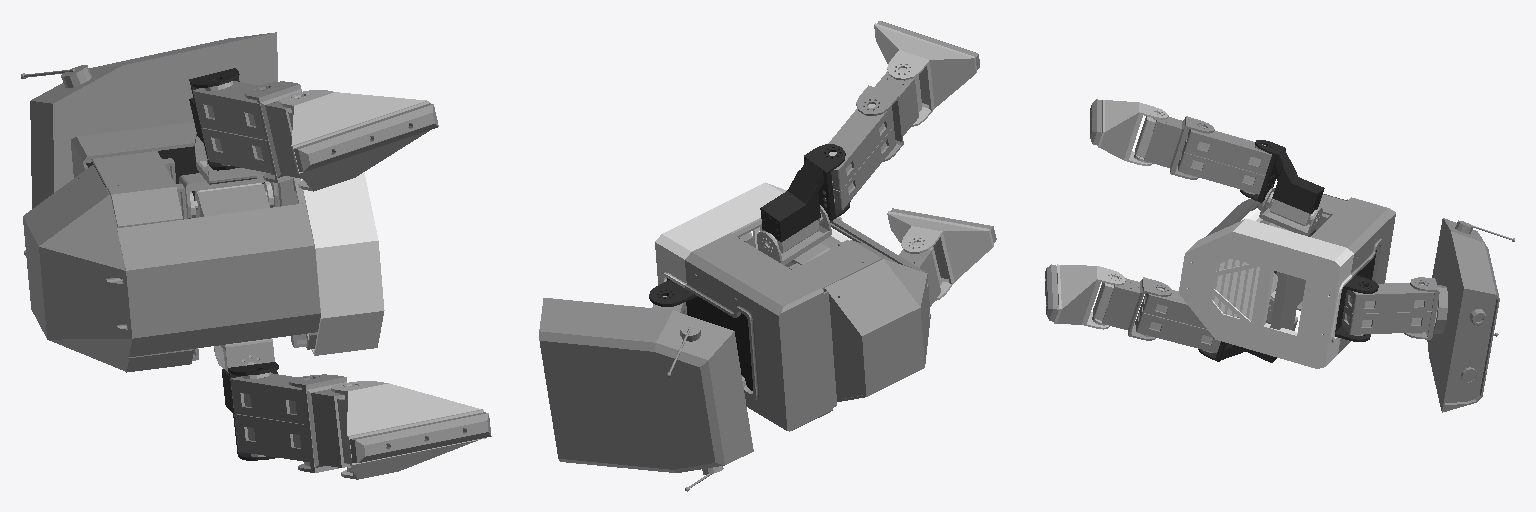
--- What the picture shows (computed from the rendered views, not written in the file) ---
The picture shows the robot from 3 angles, left to right: view 1: azimuth 30°, elevation 25°; view 2: azimuth 150°, elevation 25°; view 3: azimuth 270°, elevation 25°; orthographic projection.
Robot: droid — 16 links, 15 joints (15 revolute); root link bodyAssembly_1__Part_1_5; default pose: every joint at zero.
Visible links, largest first — view 1: bodyAssembly_1__Part_1_5, HeadNeckAssembly_1__Part_1_1, R_leg_Assembly_1__Composite_part_1_3, L_leg_Assembly_Copy_1_1__Composite_part_1_3, L_leg_Assembly_Copy_1_1__Part_1_6, L_leg_Assembly_Copy_1_1__Part_1_3, R_leg_Assembly_1__Part_1_6, R_leg_Assembly_1__Part_1_4, L_leg_Assembly_Copy_1_1__Part_1_4, R_leg_Assembly_1__Part_1_3, R_leg_Assembly_1__Composite_part_1_1, L_leg_Assembly_Copy_1_1__Composite_part_1_1 (+2 smaller); view 2: bodyAssembly_1__Part_1_5, HeadNeckAssembly_1__Part_1_1, R_leg_Assembly_1__Composite_part_1_3, R_leg_Assembly_1__Composite_part_1_2, L_leg_Assembly_Copy_1_1__Composite_part_1_3, R_leg_Assembly_1__Part_1_6, R_leg_Assembly_1__Part_1_4, R_leg_Assembly_1__Composite_part_1_1, R_leg_Assembly_1__Part_1_3, L_leg_Assembly_Copy_1_1__Part_1_6; view 3: bodyAssembly_1__Part_1_5, HeadNeckAssembly_1__Part_1_1, HeadNeckAssembly_1__Part_1_7, L_leg_Assembly_Copy_1_1__Composite_part_1_3, R_leg_Assembly_1__Composite_part_1_2, R_leg_Assembly_1__Composite_part_1_3, R_leg_Assembly_1__Part_1_6, L_leg_Assembly_Copy_1_1__Part_1_6, R_leg_Assembly_1__Part_1_4, R_leg_Assembly_1__Part_1_3, L_leg_Assembly_Copy_1_1__Part_1_4, L_leg_Assembly_Copy_1_1__Part_1_3 (+3 smaller).
Boxes of the visible links, bbox=[...] form: bodyAssembly_1__Part_1_5: bbox=[23, 122, 384, 372]; HeadNeckAssembly_1__Part_1_1: bbox=[21, 32, 277, 255]; R_leg_Assembly_1__Composite_part_1_3: bbox=[279, 90, 438, 191]; L_leg_Assembly_Copy_1_1__Composite_part_1_3: bbox=[331, 381, 491, 479]; L_leg_Assembly_Copy_1_1__Part_1_6: bbox=[289, 374, 352, 472]; L_leg_Assembly_Copy_1_1__Part_1_3: bbox=[230, 372, 309, 465]; R_leg_Assembly_1__Part_1_6: bbox=[244, 81, 301, 182]; R_leg_Assembly_1__Part_1_4: bbox=[193, 81, 266, 139]; L_leg_Assembly_Copy_1_1__Part_1_4: bbox=[234, 414, 309, 461]; R_leg_Assembly_1__Part_1_3: bbox=[201, 81, 274, 174]; R_leg_Assembly_1__Composite_part_1_1: bbox=[179, 134, 277, 218]; L_leg_Assembly_Copy_1_1__Composite_part_1_1: bbox=[214, 338, 274, 368]; bodyAssembly_1__Part_1_5: bbox=[649, 182, 930, 431]; HeadNeckAssembly_1__Part_1_1: bbox=[539, 298, 753, 491]; R_leg_Assembly_1__Composite_part_1_3: bbox=[874, 21, 979, 126]; R_leg_Assembly_1__Composite_part_1_2: bbox=[760, 144, 850, 253]; L_leg_Assembly_Copy_1_1__Composite_part_1_3: bbox=[887, 208, 996, 300]; R_leg_Assembly_1__Part_1_6: bbox=[856, 68, 921, 161]; R_leg_Assembly_1__Part_1_4: bbox=[828, 107, 893, 190]; R_leg_Assembly_1__Composite_part_1_1: bbox=[757, 205, 831, 265]; R_leg_Assembly_1__Part_1_3: bbox=[825, 104, 895, 209]; L_leg_Assembly_Copy_1_1__Part_1_6: bbox=[898, 242, 941, 306]; bodyAssembly_1__Part_1_5: bbox=[1179, 194, 1395, 368]; HeadNeckAssembly_1__Part_1_1: bbox=[1427, 218, 1514, 412]; HeadNeckAssembly_1__Part_1_7: bbox=[1342, 283, 1434, 335]; L_leg_Assembly_Copy_1_1__Composite_part_1_3: bbox=[1045, 264, 1125, 329]; R_leg_Assembly_1__Composite_part_1_2: bbox=[1240, 140, 1324, 225]; R_leg_Assembly_1__Composite_part_1_3: bbox=[1090, 99, 1168, 165]; R_leg_Assembly_1__Part_1_6: bbox=[1134, 112, 1214, 179]; L_leg_Assembly_Copy_1_1__Part_1_6: bbox=[1092, 276, 1172, 340]; R_leg_Assembly_1__Part_1_4: bbox=[1184, 129, 1271, 175]; R_leg_Assembly_1__Part_1_3: bbox=[1178, 126, 1265, 194]; L_leg_Assembly_Copy_1_1__Part_1_4: bbox=[1135, 304, 1220, 352]; L_leg_Assembly_Copy_1_1__Part_1_3: bbox=[1142, 288, 1212, 352].
Size in the robot's own frame: 0.2704 by 0.4907 by 0.2842 metres.
Meshes: 46 distinct files referenced, 42 mesh visuals loaded (42 binary STL); not drawn: 4 (file found but could not be loaded).

The robot description file, URDF, robot "droid":
<?xml version="1.0" encoding="UTF-8"?><robot xmlns="http://www.ros.org" name="droid">
    <link name="HeadNeckAssembly_1__Part_1_7">
        <inertial>
            <origin rpy="0.14491872905424558 0.009281080644398828 -1.9456978500770583" xyz="0.03306102602081387 0.0 -0.025988992866618377"/>
            <mass value="0.041127334490139285"/>
            <inertia ixx="1.3693996052096294E-5" ixy="3.4730111124017578E-9" ixz="2.4194819633799673E-8" iyy="3.939607905119911E-5" iyz="-1.0759532176086937E-6" izz="3.3248415100496406E-5"/>
        </inertial>
        <visual>
            <origin rpy="1.7347234759768213E-15 1.1102230246251652E-16 3.141592653589793" xyz="0.033122698052227145 0.0 -0.048999999999999655"/>
            <geometry>
                <mesh filename="meshes/HeadNeckAssembly_1__Part_1_7.stl"/>
            </geometry>
            <material name="material">
                <color rgba="0.615686274509804 0.615686274509804 0.615686274509804 1.0"/>
            </material>
        </visual>
        <visual>
            <origin rpy="1.7347234759768213E-15 1.1102230246251652E-16 3.141592653589793" xyz="0.05559999999999951 2.7755575615628914E-17 -0.025999999999999857"/>
            <geometry>
                <mesh filename="meshes/HeadNeckAssembly_1__Part_1_4.stl"/>
            </geometry>
            <material name="material">
                <color rgba="0.7490196078431373 0.7490196078431373 0.7490196078431373 1.0"/>
            </material>
        </visual>
        <visual>
            <origin rpy="-3.1415926535897913 1.1102230246251652E-16 3.141592653589793" xyz="0.032999999999999724 0.0 -0.003000000000000058"/>
            <geometry>
                <mesh filename="meshes/HeadNeckAssembly_1__Part_1_5.stl"/>
            </geometry>
            <material name="material">
                <color rgba="0.615686274509804 0.615686274509804 0.615686274509804 1.0"/>
            </material>
        </visual>
        <visual>
            <origin rpy="0.0 -0.0 3.0357660829594124E-17" xyz="0.010399999999999993 0.0 -0.02600000000000008"/>
            <geometry>
                <mesh filename="meshes/HeadNeckAssembly_1__Part_1_6.stl"/>
            </geometry>
            <material name="material">
                <color rgba="0.7490196078431373 0.7490196078431373 0.7490196078431373 1.0"/>
            </material>
        </visual>
        <collision name="collision">
            <origin rpy="0.0 -0.0 0.0" xyz="0 0 0"/>
        </collision>
    </link>
    <link name="R_leg_Assembly_1__Part_1_6">
        <inertial>
            <origin rpy="-2.841479538896191 -0.08215675154349743 3.1089611559416785" xyz="-0.143667790477173 -0.10500851911398518 0.2583286463831161"/>
            <mass value="0.018230564161461273"/>
            <inertia ixx="5.208410756315261E-6" ixy="-4.2398317337648713E-10" ixz="2.2385095294789756E-9" iyy="9.95025512505355E-6" iyz="-4.2022089153689035E-8" izz="8.28375054165331E-6"/>
        </inertial>
        <visual>
            <origin rpy="-6.938893903907228E-17 5.551115123125773E-17 1.5707963267948992" xyz="-0.14244977733990943 -0.1206126977539852 0.2585692761793733"/>
            <geometry>
                <mesh filename="meshes/R_leg_Assembly_1__Part_1_7.stl"/>
            </geometry>
            <material name="material">
                <color rgba="0.7490196078431373 0.7490196078431373 0.7490196078431373 1.0"/>
            </material>
        </visual>
        <visual>
            <origin rpy="1.5707963267948966 1.5707963267948966 0.0" xyz="-0.14337477733990947 -0.10061269775398521 0.25831927617937334"/>
            <geometry>
                <mesh filename="meshes/R_leg_Assembly_1__Part_1_6.stl"/>
            </geometry>
            <material name="material">
                <color rgba="0.611764705882353 0.611764705882353 0.611764705882353 1.0"/>
            </material>
        </visual>
        <collision name="collision">
            <origin rpy="0.0 -0.0 0.0" xyz="0 0 0"/>
        </collision>
    </link>
    <link name="L_leg_Assembly_Copy_1_1__Part_1_4">
        <inertial>
            <origin rpy="0.2973168944103398 -0.04429570838046923 1.534259899309768" xyz="-0.029003465022146707 -0.0771744622765647 0.13679553334324396"/>
            <mass value="0.020455398639671444"/>
            <inertia ixx="2.915086716720565E-6" ixy="1.0" ixz="1.0" iyy="1.5873003355695037E-5" iyz="1.1856597788008021E-8" izz="1.6583316052442535E-5"/>
        </inertial>
        <visual>
            <origin rpy="0.0 5.551115123125783E-17 1.734723475976807E-18" xyz="-0.029003465022146707 -0.07710678510772048 0.1276651275301544"/>
            <geometry>
                <mesh filename="meshes/L_leg_Assembly_Copy_1_1__Part_1_4.stl"/>
            </geometry>
            <material name="material">
                <color rgba="0.615686274509804 0.615686274509804 0.615686274509804 1.0"/>
            </material>
        </visual>
        <collision name="collision">
            <origin rpy="0.0 -0.0 0.0" xyz="0 0 0"/>
        </collision>
    </link>
    <link name="L_leg_Assembly_Copy_1_1__Composite_part_1_1">
        <inertial>
            <origin rpy="-1.401406675437184 -1.208244960801741 0.13528643878441013" xyz="0.0 -0.016999999999999904 0.026500000000000013"/>
            <mass value="0.0171670294792114"/>
            <inertia ixx="6.44420964908871E-6" ixy="1.0" ixz="1.0" iyy="6.4442096490887096E-6" iyz="1.0" izz="9.382418566263971E-6"/>
        </inertial>
        <visual>
            <origin rpy="1.5707963267948968 1.5707963267948966 0.0" xyz="-1.1102230246251565E-16 0.020000000000000073 -6.938893903907228E-18"/>
            <geometry>
                <mesh filename="meshes/L_leg_Assembly_Copy_1_1__Composite_part_1_1.stl"/>
            </geometry>
            <material name="material">
                <color rgba="0.6470588235294118 0.6470588235294118 0.6470588235294118 1.0"/>
            </material>
        </visual>
        <collision name="collision">
            <origin rpy="0.0 -0.0 0.0" xyz="0 0 0"/>
        </collision>
    </link>
    <link name="HeadNeckAssembly_1__Part_1_1">
        <inertial>
            <origin rpy="-1.4247112083755553 -0.12501486630665473 -1.5013842875892451" xyz="0.07509227142560188 -0.00810119274595214 0.04095765905544663"/>
            <mass value="0.21210055385365936"/>
            <inertia ixx="6.563030498747351E-4" ixy="-2.432947509455314E-6" ixz="-1.7765536808171356E-8" iyy="5.078596775284351E-4" iyz="-1.3350503065396255E-6" izz="0.0010438168468389012"/>
        </inertial>
        <visual>
            <origin rpy="3.141592653589793 2.7755575615628914E-17 -1.3877787807814457E-17" xyz="0.07495083422663912 -0.03385703496944786 0.059824881255626794"/>
            <geometry>
                <mesh filename="meshes/HeadNeckAssembly_1__Part_1_1.stl"/>
            </geometry>
            <material name="material">
                <color rgba="0.615686274509804 0.615686274509804 0.615686274509804 1.0"/>
            </material>
        </visual>
        <collision name="collision">
            <origin rpy="0.0 -0.0 0.0" xyz="0 0 0"/>
        </collision>
    </link>
    <link name="L_leg_Assembly_Copy_1_1__Part_1_6">
        <inertial>
            <origin rpy="0.2973168944103402 -0.04429570838046979 -0.03604870478308422" xyz="-0.07739979824498402 -0.15456094889015443 0.08801283522588943"/>
            <mass value="0.018230564161461273"/>
            <inertia ixx="5.208410756315261E-6" ixy="-4.2398317337648713E-10" ixz="2.2385095294789756E-9" iyy="9.95025512505355E-6" iyz="-4.2022089153689035E-8" izz="8.28375054165331E-6"/>
        </inertial>
        <visual>
            <origin rpy="2.220446049250313E-16 -2.7755575615629E-16 1.5707963267948912" xyz="-0.07618178510772056 -0.17016512753015442 0.08825346502214665"/>
            <geometry>
                <mesh filename="meshes/L_leg_Assembly_Copy_1_1__Part_1_7.stl"/>
            </geometry>
            <material name="material">
                <color rgba="0.7490196078431373 0.7490196078431373 0.7490196078431373 1.0"/>
            </material>
        </visual>
        <visual>
            <origin rpy="1.5707963267948968 1.5707963267948966 0.0" xyz="-0.07710678510772047 -0.15016512753015446 0.08800346502214668"/>
            <geometry>
                <mesh filename="meshes/L_leg_Assembly_Copy_1_1__Part_1_6.stl"/>
            </geometry>
            <material name="material">
                <color rgba="0.611764705882353 0.611764705882353 0.611764705882353 1.0"/>
            </material>
        </visual>
        <collision name="collision">
            <origin rpy="0.0 -0.0 0.0" xyz="0 0 0"/>
        </collision>
    </link>
    <link name="L_leg_Assembly_Copy_1_1__Part_1_3">
        <inertial>
            <origin rpy="-2.844275759179454 0.0442957083804698 -1.5400545984200504" xyz="-0.029126163074374184 -0.07717375336253354 0.0904189174908247"/>
            <mass value="0.02067193585046784"/>
            <inertia ixx="2.9375997572303526E-6" ixy="1.0" ixz="1.0" iyy="1.583999636315764E-5" iyz="1.5035987309264036E-8" izz="1.6506716416713372E-5"/>
        </inertial>
        <visual>
            <origin rpy="6.938893903907228E-18 -0.0 0.0" xyz="-0.05160346502214669 -0.0771067851077205 0.10416512753015444"/>
            <geometry>
                <mesh filename="meshes/L_leg_Assembly_Copy_1_1__Part_1_2.stl"/>
            </geometry>
            <material name="material">
                <color rgba="0.7490196078431373 0.7490196078431373 0.7490196078431373 1.0"/>
            </material>
        </visual>
        <visual>
            <origin rpy="6.938893903907228E-18 -0.0 0.0" xyz="-0.029126163074374184 -0.0771067851077205 0.08116512753015448"/>
            <geometry>
                <mesh filename="meshes/L_leg_Assembly_Copy_1_1__Part_1_3.stl"/>
            </geometry>
            <material name="material">
                <color rgba="0.615686274509804 0.615686274509804 0.615686274509804 1.0"/>
            </material>
        </visual>
        <visual>
            <origin rpy="3.141592653589793 -0.0 3.141592653589793" xyz="-0.006526163074374175 -0.07710678510772048 0.10416512753015444"/>
            <geometry>
                <mesh filename="meshes/L_leg_Assembly_Copy_1_1__Part_1_5.stl"/>
            </geometry>
            <material name="material">
                <color rgba="0.7490196078431373 0.7490196078431373 0.7490196078431373 1.0"/>
            </material>
        </visual>
        <collision name="collision">
            <origin rpy="0.0 -0.0 0.0" xyz="0 0 0"/>
        </collision>
    </link>
    <link name="bodyAssembly_1__Part_1_5">
        <inertial>
            <origin rpy="0.0 -0.0 0.0" xyz="0.06093237761995625 0.21092170843523267 -0.29121855341974506"/>
            <mass value="0.6905911276758767"/>
            <inertia ixx="0.003531682144537188" ixy="2.1275142426849796E-5" ixz="-5.9149120762144275E-5" iyy="0.003390222875397111" iyz="1.2610602354506609E-4" izz="0.004759291130126272"/>
        </inertial>
        <visual>
            <origin rpy="2.7156468994744962 -1.4255827853164351 1.6349779651516658" xyz="0.06784458427800111 0.26173253234141836 -0.2987318103936719"/>
            <geometry>
                <mesh filename="meshes/bodyAssembly_1__Part_1_9.stl"/>
            </geometry>
            <material name="material">
                <color rgba="0.615686274509804 0.615686274509804 0.615686274509804 1.0"/>
            </material>
        </visual>
        <visual>
            <origin rpy="2.7156468994744944 -1.4255827853164358 1.634977965151666" xyz="0.0579791004855284 0.17726166804149135 -0.2864334225267241"/>
            <geometry>
                <mesh filename="meshes/bodyAssembly_1__Part_1_1.stl"/>
            </geometry>
            <material name="material">
                <color rgba="0.615686274509804 0.615686274509804 0.615686274509804 1.0"/>
            </material>
        </visual>
        <visual>
            <origin rpy="2.7156468994744993 -1.425582785316436 1.6349779651516614" xyz="0.07693412721267107 0.22683791555684468 -0.29298556024672595"/>
            <geometry>
                <mesh filename="meshes/bodyAssembly_1__Part_1_6.stl"/>
            </geometry>
            <material name="material">
                <color rgba="0.615686274509804 0.615686274509804 0.615686274509804 1.0"/>
            </material>
        </visual>
        <visual>
            <origin rpy="2.7156468994744936 -1.4255827853164358 1.6349779651516685" xyz="0.007951349141101405 0.2545333963860842 -0.24815331549892608"/>
            <geometry>
                <mesh filename="meshes/bodyAssembly_1__Part_1_2.stl"/>
            </geometry>
            <material name="material">
                <color rgba="0.615686274509804 0.615686274509804 0.615686274509804 1.0"/>
            </material>
        </visual>
        <visual>
            <origin rpy="2.715646899474497 -1.4255827853164358 1.634977965151668" xyz="0.09609209075583225 0.27677539636495085 -0.3005991504579143"/>
            <geometry>
                <mesh filename="meshes/bodyAssembly_1__Composite_part_1_2.stl"/>
            </geometry>
            <material name="material">
                <color rgba="0.23137254901960785 0.23137254901960785 0.23137254901960785 1.0"/>
            </material>
        </visual>
        <visual>
            <origin rpy="-1.7031931585020135 -0.05982468551974241 -0.35779684310301263" xyz="-0.013798223013985117 0.20409745312987027 -0.291030391058805"/>
            <geometry>
                <mesh filename="meshes/bodyAssembly_1__myPy_1.stl"/>
            </geometry>
            <material name="material">
                <color rgba="0.34509803921568627 0.34509803921568627 0.34509803921568627 1.0"/>
            </material>
        </visual>
        <visual>
            <origin rpy="2.7156468994745 -1.4255827853164356 1.6349779651516683" xyz="0.13604566387535366 0.20664025999340868 -0.23996222160157796"/>
            <geometry>
                <mesh filename="meshes/bodyAssembly_1__Part_1_4.stl"/>
            </geometry>
            <material name="material">
                <color rgba="0.615686274509804 0.615686274509804 0.615686274509804 1.0"/>
            </material>
        </visual>
        <visual>
            <origin rpy="-2.715646899474506 1.4255827853164358 -1.5066146884381264" xyz="0.0755032601334838 0.22259597937574083 -0.2954118161724061"/>
            <geometry>
                <mesh filename="meshes/bodyAssembly_1__Part_1_7.stl"/>
            </geometry>
            <material name="material">
                <color rgba="0.615686274509804 0.615686274509804 0.615686274509804 1.0"/>
            </material>
        </visual>
        <visual>
            <origin rpy="2.663939773362938 -1.4218647413633252 1.6872490515471974" xyz="0.04658417164096498 0.1482581063111208 -0.2811268379304672"/>
            <geometry>
                <mesh filename="meshes/bodyAssembly_1__Part_1_10.stl"/>
            </geometry>
            <material name="material">
                <color rgba="0.615686274509804 0.615686274509804 0.615686274509804 1.0"/>
            </material>
        </visual>
        <visual>
            <origin rpy="-2.7156468994744944 1.4255827853164358 -1.5066146884381255" xyz="0.008870162933896836 0.2402372230292375 -0.34611134328922666"/>
            <geometry>
                <mesh filename="meshes/bodyAssembly_1__Part_1_3.stl"/>
            </geometry>
            <material name="material">
                <color rgba="0.615686274509804 0.615686274509804 0.615686274509804 1.0"/>
            </material>
        </visual>
        <visual>
            <origin rpy="1.631978511779687 0.21091886830959927 -1.915768856467954" xyz="0.06073309180912595 0.19045455206978767 -0.2565438905706907"/>
            <geometry>
                <mesh filename="meshes/bodyAssembly_1__Part_1_13.stl"/>
            </geometry>
            <material name="material">
                <color rgba="0.7490196078431373 0.7490196078431373 0.7490196078431373 1.0"/>
            </material>
        </visual>
        <visual>
            <origin rpy="1.63808519872426 -0.47517398091966034 -1.9594141513543102" xyz="0.06131694720183811 0.18137012389185975 -0.3187908041817541"/>
            <geometry>
                <mesh filename="meshes/bodyAssembly_1__Part_1_14.stl"/>
            </geometry>
            <material name="material">
                <color rgba="0.7490196078431373 0.7490196078431373 0.7490196078431373 1.0"/>
            </material>
        </visual>
        <visual>
            <origin rpy="-2.7156468994744962 1.4255827853164358 -1.5066146884381248" xyz="0.13696447766814873 0.19234408663656155 -0.33792024939187837"/>
            <geometry>
                <mesh filename="meshes/bodyAssembly_1__Part_1_5.stl"/>
            </geometry>
            <material name="material">
                <color rgba="0.615686274509804 0.615686274509804 0.615686274509804 1.0"/>
            </material>
        </visual>
        <visual>
            <origin rpy="-2.7156468994744962 1.4255827853164358 -1.5066146884381257" xyz="0.15042649184091897 0.19398506767792184 -0.28796547490681845"/>
            <geometry>
                <mesh filename="meshes/bodyAssembly_1__Composite_part_1_1.stl"/>
            </geometry>
            <material name="material">
                <color rgba="0.8980392156862745 0.8980392156862745 0.8980392156862745 1.0"/>
            </material>
        </visual>
        <visual>
            <origin rpy="2.71564689947449 -1.4255827853164367 1.6349779651516603" xyz="0.07545685539647273 0.22331800833315724 -0.29046444103148317"/>
            <geometry>
                <mesh filename="meshes/bodyAssembly_1__Part_1_8.stl"/>
            </geometry>
            <material name="material">
                <color rgba="0.615686274509804 0.615686274509804 0.615686274509804 1.0"/>
            </material>
        </visual>
        <visual>
            <origin rpy="-2.663939773362955 1.4218647413633254 -1.4543436020425944" xyz="0.04442323969302428 0.13843649654477724 -0.2797008317411265"/>
            <geometry>
                <mesh filename="meshes/bodyAssembly_1__Part_1_12.stl"/>
            </geometry>
            <material name="material">
                <color rgba="1.0 1.0 1.0 1.0"/>
            </material>
        </visual>
        <visual>
            <origin rpy="2.6640536266687334 -1.4218735824767113 1.6871339238737764" xyz="0.07758619834213992 0.2272098794138741 -0.2924124946854637"/>
            <geometry>
                <mesh filename="meshes/bodyAssembly_1__Part_1_11.stl"/>
            </geometry>
            <material name="material">
                <color rgba="0.615686274509804 0.615686274509804 0.615686274509804 1.0"/>
            </material>
        </visual>
        <collision name="collision">
            <origin rpy="0.0 -0.0 0.0" xyz="0 0 0"/>
        </collision>
    </link>
    <link name="R_leg_Assembly_1__Composite_part_1_1">
        <inertial>
            <origin rpy="-1.4014066754371712 -1.2082449608017456 -3.048391492596382" xyz="-5.551115123125783E-17 -0.016999999999999932 -0.02650000000000003"/>
            <mass value="0.0171670294792114"/>
            <inertia ixx="6.44420964908871E-6" ixy="1.0" ixz="1.0" iyy="6.4442096490887096E-6" iyz="1.0" izz="9.382418566263971E-6"/>
        </inertial>
        <visual>
            <origin rpy="1.5707963267948966 -1.5707963267948966 0.0" xyz="-5.551115123125783E-17 0.020000000000000073 -8.673617379884035E-18"/>
            <geometry>
                <mesh filename="meshes/R_leg_Assembly_1__Composite_part_1_1.stl"/>
            </geometry>
            <material name="material">
                <color rgba="0.6470588235294118 0.6470588235294118 0.6470588235294118 1.0"/>
            </material>
        </visual>
        <collision name="collision">
            <origin rpy="0.0 -0.0 0.0" xyz="0 0 0"/>
        </collision>
    </link>
    <link name="R_leg_Assembly_1__Part_1_3">
        <inertial>
            <origin rpy="0.30011311469360297 0.08215675154349769 1.596372318900595" xyz="-0.19944197423160076 -0.1434417455947225 0.04086648771465551"/>
            <mass value="0.02067193585046784"/>
            <inertia ixx="2.9375997572303526E-6" ixy="1.0" ixz="1.0" iyy="1.583999636315764E-5" iyz="1.5035987309264036E-8" izz="1.6506716416713372E-5"/>
        </inertial>
        <visual>
            <origin rpy="0.0 -0.0 -3.469446951953614E-18" xyz="-0.22191927617937324 -0.14337477733990947 0.05461269775398525"/>
            <geometry>
                <mesh filename="meshes/R_leg_Assembly_1__Part_1_2.stl"/>
            </geometry>
            <material name="material">
                <color rgba="0.7490196078431373 0.7490196078431373 0.7490196078431373 1.0"/>
            </material>
        </visual>
        <visual>
            <origin rpy="3.141592653589793 -0.0 3.141592653589793" xyz="-0.17684197423160075 -0.14337477733990947 0.05461269775398522"/>
            <geometry>
                <mesh filename="meshes/R_leg_Assembly_1__Part_1_5.stl"/>
            </geometry>
            <material name="material">
                <color rgba="0.7490196078431373 0.7490196078431373 0.7490196078431373 1.0"/>
            </material>
        </visual>
        <visual>
            <origin rpy="0.0 -0.0 -3.469446951953614E-18" xyz="-0.19944197423160076 -0.14337477733990947 0.03161269775398523"/>
            <geometry>
                <mesh filename="meshes/R_leg_Assembly_1__Part_1_3.stl"/>
            </geometry>
            <material name="material">
                <color rgba="0.615686274509804 0.615686274509804 0.615686274509804 1.0"/>
            </material>
        </visual>
        <collision name="collision">
            <origin rpy="0.0 -0.0 0.0" xyz="0 0 0"/>
        </collision>
    </link>
    <link name="R_leg_Assembly_1__Composite_part_1_3">
        <inertial>
            <origin rpy="0.3001131146936029 0.08215675154349499 -3.1160166614841285" xyz="-0.14931785792344532 0.11881016074922741 -0.20475999736504835"/>
            <mass value="0.11594942474483423"/>
            <inertia ixx="7.140627836546527E-5" ixy="1.6747142545063475E-6" ixz="-1.5776983380631762E-6" iyy="3.0680475987448035E-5" iyz="6.443908860269209E-6" izz="7.190206744040874E-5"/>
        </inertial>
        <visual>
            <origin rpy="-1.5707963267949097 -1.5707963267948966 0.0" xyz="-0.15428590402735662 0.13548518137207505 -0.20345653715959872"/>
            <geometry>
                <mesh filename="meshes/R_leg_Assembly_1__Part_1_8.stl"/>
            </geometry>
            <material name="material">
                <color rgba="0.615686274509804 0.615686274509804 0.615686274509804 1.0"/>
            </material>
        </visual>
        <visual>
            <origin rpy="-1.5707963267948966 -1.5707963267948966 0.0" xyz="-0.14337477733990944 0.10061269775398521 -0.20631927617937323"/>
            <geometry>
                <mesh filename="meshes/R_leg_Assembly_1__Composite_part_1_3.stl"/>
            </geometry>
            <material name="material">
                <color rgba="0.7647058823529411 0.7647058823529411 0.7647058823529411 1.0"/>
            </material>
        </visual>
        <collision name="collision">
            <origin rpy="0.0 -0.0 0.0" xyz="0 0 0"/>
        </collision>
    </link>
    <link name="HeadNeckAssembly_1__Part_1_2">
        <inertial>
            <origin rpy="-2.9966739245355467 -0.009281080644400391 0.12502027902300192" xyz="0.008612143957673929 0.03931646204068012 -0.048450834226639095"/>
            <mass value="0.06486985951764727"/>
            <inertia ixx="1.7650225450609867E-5" ixy="1.1883554632997526E-7" ixz="-1.748466142365113E-8" iyy="1.9975234977721435E-5" iyz="1.3764933079022334E-7" izz="3.560621381637972E-5"/>
        </inertial>
        <visual>
            <origin rpy="1.5707963267948968 1.5707963267948966 0.0" xyz="0.008612143957673901 0.0798248812556267 -0.07495083422663909"/>
            <geometry>
                <mesh filename="meshes/HeadNeckAssembly_1__Part_1_3.stl"/>
            </geometry>
            <material name="material">
                <color rgba="0.611764705882353 0.611764705882353 0.611764705882353 1.0"/>
            </material>
        </visual>
        <visual>
            <origin rpy="1.5707963267948968 1.5707963267948963 0.0" xyz="0.008612143957673901 0.03782488125562666 -0.04845083422663904"/>
            <geometry>
                <mesh filename="meshes/HeadNeckAssembly_1__Part_1_2.stl"/>
            </geometry>
            <material name="material">
                <color rgba="0.615686274509804 0.615686274509804 0.615686274509804 1.0"/>
            </material>
        </visual>
        <collision name="collision">
            <origin rpy="0.0 -0.0 0.0" xyz="0 0 0"/>
        </collision>
    </link>
    <link name="L_leg_Assembly_Copy_1_1__Composite_part_1_2">
        <inertial>
            <origin rpy="1.8847517825696416 -0.35908770214618335 -1.6181119733989193" xyz="-0.03410181867356615 -0.07710678551396806 0.08567116816417389"/>
            <mass value="0.025500824590556415"/>
            <inertia ixx="1.1204706316036467E-5" ixy="-9.682988863561158E-13" ixz="-1.3934364447201988E-6" iyy="1.5114810167339543E-5" iyz="6.698267973349529E-13" izz="7.641938448092734E-6"/>
        </inertial>
        <visual>
            <origin rpy="-1.0408340855860843E-17 -0.0 0.0" xyz="-0.05160346502214669 -0.07710678510772051 0.10416512753015447"/>
            <geometry>
                <mesh filename="meshes/L_leg_Assembly_Copy_1_1__Part_1_1.stl"/>
            </geometry>
            <material name="material">
                <color rgba="0.7490196078431373 0.7490196078431373 0.7490196078431373 1.0"/>
            </material>
        </visual>
        <visual>
            <origin rpy="1.0408340855860843E-17 -0.0 3.141592653589793" xyz="-0.03110346502214667 -0.07710678510772052 0.07341512753015442"/>
            <geometry>
                <mesh filename="meshes/L_leg_Assembly_Copy_1_1__Composite_part_1_2.stl"/>
            </geometry>
            <material name="material">
                <color rgba="0.23137254901960785 0.23137254901960785 0.23137254901960785 1.0"/>
            </material>
        </visual>
        <collision name="collision">
            <origin rpy="0.0 -0.0 0.0" xyz="0 0 0"/>
        </collision>
    </link>
    <link name="R_leg_Assembly_1__Part_1_4">
        <inertial>
            <origin rpy="-2.8414795388961904 -0.08215675154349786 -1.5963723189005665" xyz="-0.19931927617937323 -0.14344245450875365 0.08724310356707474"/>
            <mass value="0.020455398639671444"/>
            <inertia ixx="2.915086716720565E-6" ixy="1.0" ixz="1.0" iyy="1.5873003355695037E-5" iyz="1.1856597788008021E-8" izz="1.6583316052442535E-5"/>
        </inertial>
        <visual>
            <origin rpy="2.7755575615628914E-17 5.551115123125784E-17 -6.93889390390723E-18" xyz="-0.1993192761793732 -0.14337477733990944 0.07811269775398522"/>
            <geometry>
                <mesh filename="meshes/R_leg_Assembly_1__Part_1_4.stl"/>
            </geometry>
            <material name="material">
                <color rgba="0.615686274509804 0.615686274509804 0.615686274509804 1.0"/>
            </material>
        </visual>
        <collision name="collision">
            <origin rpy="0.0 -0.0 0.0" xyz="0 0 0"/>
        </collision>
    </link>
    <link name="R_leg_Assembly_1__Composite_part_1_2">
        <inertial>
            <origin rpy="1.8398254725303544 -0.3609056043522829 1.6586243971283858" xyz="-0.20441762983079267 -0.14337477774615698 0.03611873838800472"/>
            <mass value="0.025500824590556415"/>
            <inertia ixx="1.1204706316036467E-5" ixy="-9.682988863561158E-13" ixz="-1.3934364447201988E-6" iyy="1.5114810167339543E-5" iyz="6.698267973349529E-13" izz="7.641938448092734E-6"/>
        </inertial>
        <visual>
            <origin rpy="2.0816681711721682E-17 -0.0 2.7755575615628914E-17" xyz="-0.22191927617937326 -0.14337477733990944 0.05461269775398525"/>
            <geometry>
                <mesh filename="meshes/R_leg_Assembly_1__Part_1_1.stl"/>
            </geometry>
            <material name="material">
                <color rgba="0.7490196078431373 0.7490196078431373 0.7490196078431373 1.0"/>
            </material>
        </visual>
        <visual>
            <origin rpy="-2.0816681711721682E-17 -0.0 -3.141592653589793" xyz="-0.20141927617937325 -0.14337477733990947 0.02386269775398525"/>
            <geometry>
                <mesh filename="meshes/R_leg_Assembly_1__Composite_part_1_2.stl"/>
            </geometry>
            <material name="material">
                <color rgba="0.23137254901960785 0.23137254901960785 0.23137254901960785 1.0"/>
            </material>
        </visual>
        <collision name="collision">
            <origin rpy="0.0 -0.0 0.0" xyz="0 0 0"/>
        </collision>
    </link>
    <link name="L_leg_Assembly_Copy_1_1__Composite_part_1_3">
        <inertial>
            <origin rpy="-2.8442757591794536 0.04429570838046984 0.03653642748512791" xyz="-0.07106556118551434 0.16881798233078182 -0.08644071825396288"/>
            <mass value="0.11842810572793049"/>
            <inertia ixx="7.447384358371696E-5" ixy="1.5406792615511347E-6" ixz="-1.521723952400463E-6" iyy="3.129918776205951E-5" iyz="-2.5896214718515512E-6" izz="7.498889925543252E-5"/>
        </inertial>
        <visual>
            <origin rpy="-1.5707963267948966 -1.5707963267948966 0.0" xyz="-0.06619581239422044 0.1860376111482446 -0.08518100924740074"/>
            <geometry>
                <mesh filename="meshes/L_leg_Assembly_Copy_1_1__Part_1_8.stl"/>
            </geometry>
            <material name="material">
                <color rgba="0.615686274509804 0.615686274509804 0.615686274509804 1.0"/>
            </material>
        </visual>
        <visual>
            <origin rpy="-1.5707963267948966 -1.5707963267948966 0.0" xyz="-0.07710678510772047 0.15016512753015443 -0.08800346502214668"/>
            <geometry>
                <mesh filename="meshes/L_leg_Assembly_Copy_1_1__Composite_part_1_3.stl"/>
            </geometry>
            <material name="material">
                <color rgba="0.7647058823529411 0.7647058823529411 0.7647058823529411 1.0"/>
            </material>
        </visual>
        <collision name="collision">
            <origin rpy="0.0 -0.0 0.0" xyz="0 0 0"/>
        </collision>
    </link>
    <joint name="dof_Revolute 1" type="revolute">
        <origin rpy="0.04477676154052202 0.13818391241872524 1.9494706971575104" xyz="0.14416777675292683 0.2826771706802902 -0.27426863321938755"/>
        <parent link="bodyAssembly_1__Part_1_5"/>
        <child link="HeadNeckAssembly_1__Part_1_7"/>
        <axis xyz="0 0 1"/>
        <limit effort="10.0" lower="-1.7976931348623157E308" upper="1.7976931348623157E308" velocity="1.0"/>
    </joint>
    <joint name="dof_Revolute 2" type="revolute">
        <origin rpy="1.5082991992616204 0.29331344448293073 1.19490836685214" xyz="0.04051116437064366 0.1990175731038774 -0.32510324721836314"/>
        <parent link="bodyAssembly_1__Part_1_5"/>
        <child link="L_leg_Assembly_Copy_1_1__Composite_part_1_1"/>
        <axis xyz="0 0 1"/>
        <limit effort="10.0" lower="-1.7976931348623157E308" upper="1.7976931348623157E308" velocity="1.0"/>
    </joint>
    <joint name="dof_Revolute 3" type="revolute">
        <origin rpy="-1.5090290297589914 -0.2513093471176591 -1.9439713423259006" xyz="0.08899006934061933 0.19087384651823278 -0.2527564656871386"/>
        <parent link="bodyAssembly_1__Part_1_5"/>
        <child link="R_leg_Assembly_1__Composite_part_1_1"/>
        <axis xyz="0 0 1"/>
        <limit effort="10.0" lower="-1.7976931348623157E308" upper="1.7976931348623157E308" velocity="1.0"/>
    </joint>
    <joint name="HeadNeckAssembly &lt;1&gt;, dof_Revolute 1" type="revolute">
        <origin rpy="-1.5707963267948994 1.492030203827812 3.1746981550053797E-15" xyz="-0.005870782608326297 -0.027000000000000024 0.025589974878209854"/>
        <parent link="HeadNeckAssembly_1__Part_1_2"/>
        <child link="HeadNeckAssembly_1__Part_1_1"/>
        <axis xyz="0 0 1"/>
        <limit effort="10.0" lower="-1.7976931348623157E308" upper="1.7976931348623157E308" velocity="1.0"/>
    </joint>
    <joint name="HeadNeckAssembly &lt;1&gt;, Revolute 2" type="revolute">
        <origin rpy="3.1415926535897922 -1.4311468676808726E-15 -1.8206775710540566" xyz="0.12609651541132252 -0.006449362465708042 -0.07495083422663862"/>
        <parent link="HeadNeckAssembly_1__Part_1_7"/>
        <child link="HeadNeckAssembly_1__Part_1_2"/>
        <axis xyz="0 0 1"/>
        <limit effort="10.0" lower="-1.7976931348623157E308" upper="1.7976931348623157E308" velocity="1.0"/>
    </joint>
    <joint name="L_leg_Assembly Copy 1 &lt;1&gt;, dof_LlegRevolute 1" type="revolute">
        <origin rpy="-1.5707963267948968 -0.0038000438576027543 -1.570796326794895" xyz="-0.10366512753015422 -0.09629602580727092 -0.0503706130652048"/>
        <parent link="L_leg_Assembly_Copy_1_1__Composite_part_1_1"/>
        <child link="L_leg_Assembly_Copy_1_1__Composite_part_1_2"/>
        <axis xyz="0 0 1"/>
        <limit effort="10.0" lower="-1.7976931348623157E308" upper="1.7976931348623157E308" velocity="1.0"/>
    </joint>
    <joint name="L_leg_Assembly Copy 1 &lt;1&gt;, dof_LlegRevolute 2" type="revolute">
        <origin rpy="-1.5707963267948961 1.1805983190775118 -1.5707963267948946" xyz="-0.139917752117869 -0.029380180897924005 -0.03325699737169718"/>
        <parent link="L_leg_Assembly_Copy_1_1__Composite_part_1_2"/>
        <child link="L_leg_Assembly_Copy_1_1__Part_1_3"/>
        <axis xyz="0 0 1"/>
        <limit effort="10.0" lower="-1.7976931348623157E308" upper="1.7976931348623157E308" velocity="1.0"/>
    </joint>
    <joint name="L_leg_Assembly Copy 1 &lt;1&gt;, dof_LlegRevolute 3" type="revolute">
        <origin rpy="-3.1415926535897927 7.771561172376105E-16 -0.005794699110282405" xyz="-4.478491084569103E-4 -0.15457156506536987 0.25483025506030876"/>
        <parent link="L_leg_Assembly_Copy_1_1__Part_1_3"/>
        <child link="L_leg_Assembly_Copy_1_1__Part_1_4"/>
        <axis xyz="0 0 1"/>
        <limit effort="10.0" lower="-1.7976931348623157E308" upper="1.7976931348623157E308" velocity="1.0"/>
    </joint>
    <joint name="L_leg_Assembly Copy 1 &lt;1&gt;, dof_LlegRevolute 4" type="revolute">
        <origin rpy="3.1415926535897922 -1.3877787807814454E-17 -1.5761033032031349" xyz="-0.12657596154005013 -0.15352170438184962 0.1926685925523013"/>
        <parent link="L_leg_Assembly_Copy_1_1__Part_1_3"/>
        <child link="L_leg_Assembly_Copy_1_1__Part_1_6"/>
        <axis xyz="0 0 1"/>
        <limit effort="10.0" lower="-1.7976931348623157E308" upper="1.7976931348623157E308" velocity="1.0"/>
    </joint>
    <joint name="L_leg_Assembly Copy 1 &lt;1&gt;, dof_LlegRevolute 5" type="revolute">
        <origin rpy="-3.1415926535897927 9.020562075079406E-17 4.877227020436267E-4" xyz="8.615063439781079E-4 -0.05048510680555274 -2.50000000000028E-4"/>
        <parent link="L_leg_Assembly_Copy_1_1__Part_1_6"/>
        <child link="L_leg_Assembly_Copy_1_1__Composite_part_1_3"/>
        <axis xyz="0 0 1"/>
        <limit effort="10.0" lower="-1.7976931348623157E308" upper="1.7976931348623157E308" velocity="1.0"/>
    </joint>
    <joint name="R_leg_Assembly &lt;1&gt;, dof_rlegRevolute 1" type="revolute">
        <origin rpy="1.570796326794897 0.1231151815640604 -1.5707963267948972" xyz="0.05411269775398528 -0.2821678805221911 0.0872597289856998"/>
        <parent link="R_leg_Assembly_1__Composite_part_1_1"/>
        <child link="R_leg_Assembly_1__Composite_part_1_2"/>
        <axis xyz="0 0 1"/>
        <limit effort="10.0" lower="-1.7976931348623157E308" upper="1.7976931348623157E308" velocity="1.0"/>
    </joint>
    <joint name="R_leg_Assembly &lt;1&gt;, dof_rLegRevolute 2" type="revolute">
        <origin rpy="1.5707963267948966 1.2341890141845657 1.5707963267948937" xyz="-0.26068113349892624 0.06868587015611877 -0.16806418974573584"/>
        <parent link="R_leg_Assembly_1__Composite_part_1_2"/>
        <child link="R_leg_Assembly_1__Part_1_3"/>
        <axis xyz="0 0 1"/>
        <limit effort="10.0" lower="-1.7976931348623157E308" upper="1.7976931348623157E308" velocity="1.0"/>
    </joint>
    <joint name="R_leg_Assembly &lt;1&gt;, dof_rlegRevolute 3" type="revolute">
        <origin rpy="-3.141592653589793 1.110223024625157E-16 2.8400892748692298E-14" xyz="3.9621084191310274E-15 -0.28674955467981234 0.15572539550797046"/>
        <parent link="R_leg_Assembly_1__Part_1_3"/>
        <child link="R_leg_Assembly_1__Part_1_4"/>
        <axis xyz="0 0 1"/>
        <limit effort="10.0" lower="-1.7976931348623157E308" upper="1.7976931348623157E308" velocity="1.0"/>
    </joint>
    <joint name="R_leg_Assembly &lt;1&gt;, dof_RlegRevolute 4" type="revolute">
        <origin rpy="3.1415926535897927 2.775557561562901E-17 -1.5778518323373134" xyz="-0.24794154062865165 -0.28617722746810564 0.31343197393335864"/>
        <parent link="R_leg_Assembly_1__Part_1_3"/>
        <child link="R_leg_Assembly_1__Part_1_6"/>
        <axis xyz="0 0 1"/>
        <limit effort="10.0" lower="-1.7976931348623157E308" upper="1.7976931348623157E308" velocity="1.0"/>
    </joint>
    <joint name="R_leg_Assembly &lt;1&gt;, dof_rlegRevolute 5" type="revolute">
        <origin rpy="-3.1415926535897927 -2.6367796834848345E-16 -0.007055505542450363" xyz="0.0014901900221822584 -0.05141357959152282 0.05225000000000013"/>
        <parent link="R_leg_Assembly_1__Part_1_6"/>
        <child link="R_leg_Assembly_1__Composite_part_1_3"/>
        <axis xyz="0 0 1"/>
        <limit effort="10.0" lower="-1.7976931348623157E308" upper="1.7976931348623157E308" velocity="1.0"/>
    </joint>
<mujoco><compiler balanceinertia="true" discardvisual="false" meshdir="/tmp/translation8189404578888080423/droid/meshes"/></mujoco></robot>
